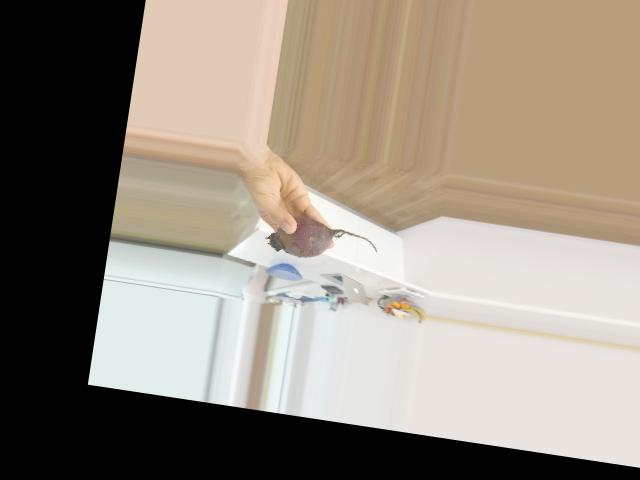beet: (264, 212, 381, 268)
